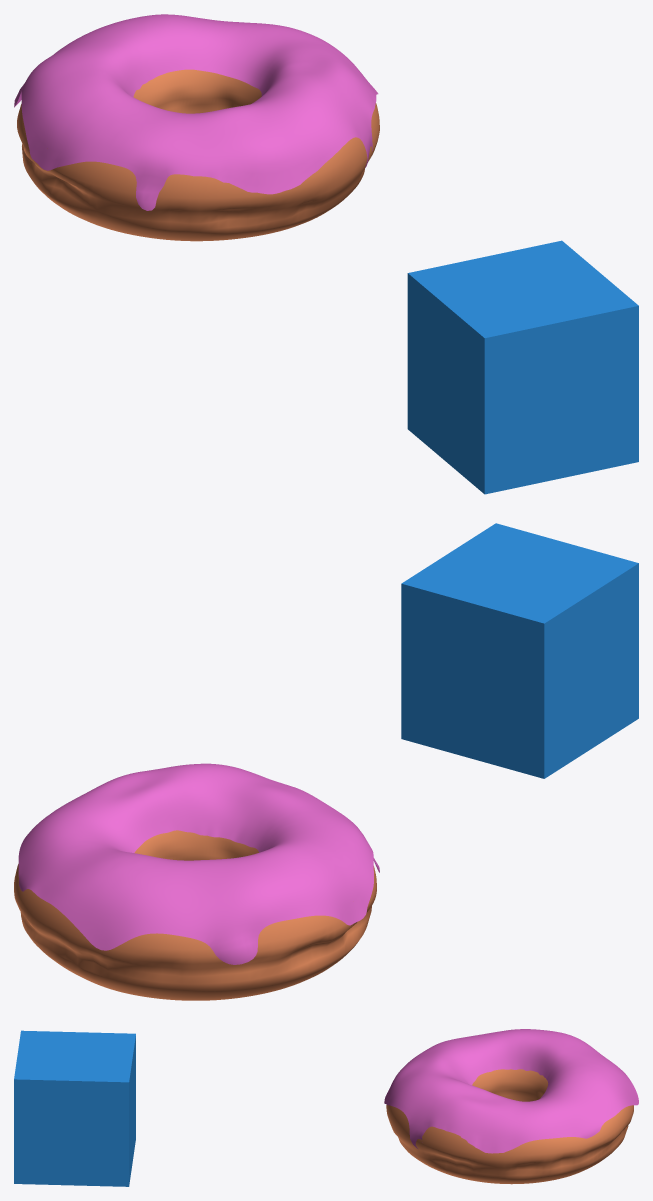
Rendered from donutblend3.glb.
3 views of the same model, one above another, from view 1: azimuth 30°, elevation 25°; view 2: azimuth 150°, elevation 25°; view 3: azimuth 270°, elevation 25° (orthographic). The views are drawn at different scales.
Visible parts, largest first — view 1: Cube, icing, donut; view 2: Cube, icing, donut; view 3: icing, Cube, donut.
Boxes of the visible parts, x1=… form: Cube: x1=407, y1=240, x2=638, y2=494; icing: x1=14, y1=14, x2=378, y2=210; donut: x1=17, y1=69, x2=379, y2=241; Cube: x1=401, y1=523, x2=638, y2=778; icing: x1=18, y1=763, x2=379, y2=964; donut: x1=14, y1=830, x2=376, y2=1000; icing: x1=384, y1=1029, x2=638, y2=1153; Cube: x1=14, y1=1030, x2=135, y2=1186; donut: x1=386, y1=1069, x2=633, y2=1184.
Size of what is drawn, in the model's own units: 0.1513 by 0.07 by 0.3794.
